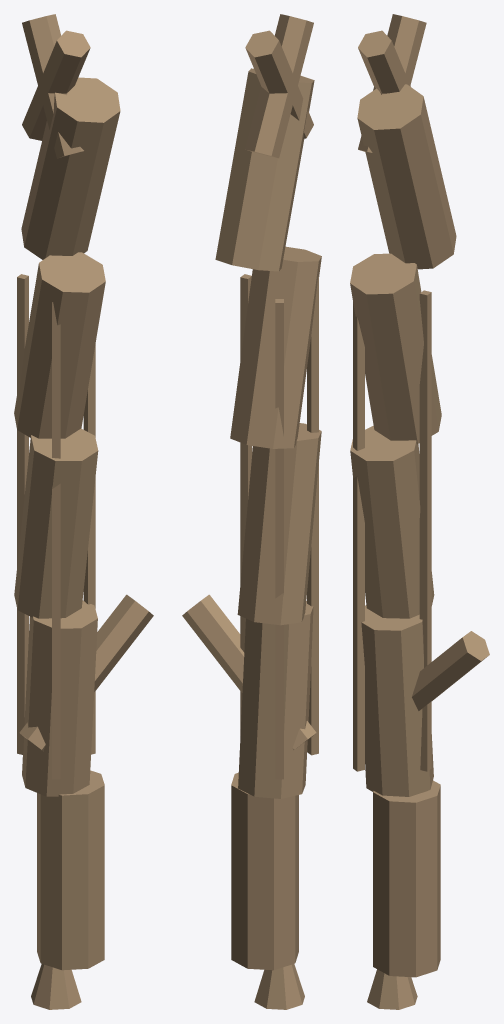
The model's file is stick_2.glb.
3 views of the same model, side by side, from view 1: azimuth 30°, elevation 25°; view 2: azimuth 150°, elevation 25°; view 3: azimuth 330°, elevation 25° (orthographic).
Visible parts, largest first — view 1: WoodenStick; view 2: WoodenStick; view 3: WoodenStick.
Part boxes in pixels (x1,y1,x2,y2): WoodenStick: [14, 14, 153, 1009]; WoodenStick: [182, 14, 321, 1009]; WoodenStick: [350, 14, 489, 1009].
Size of the model in its own units: 0.083 by 0.6146 by 0.0752.
